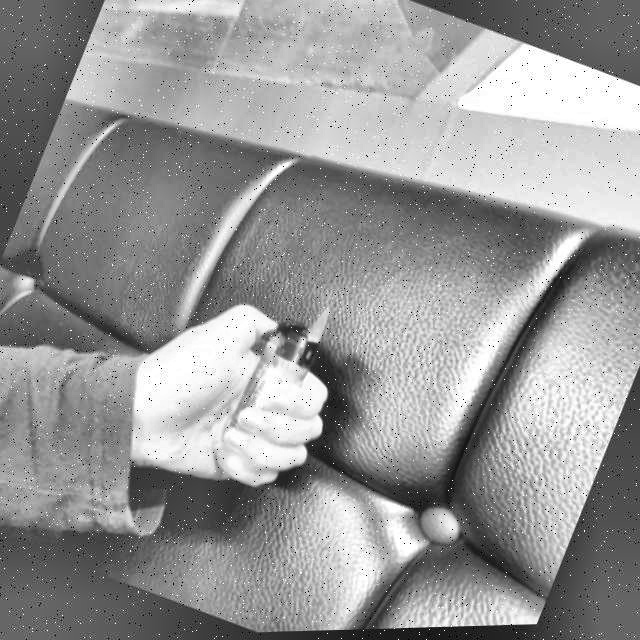Fire: (303, 304, 331, 343)
